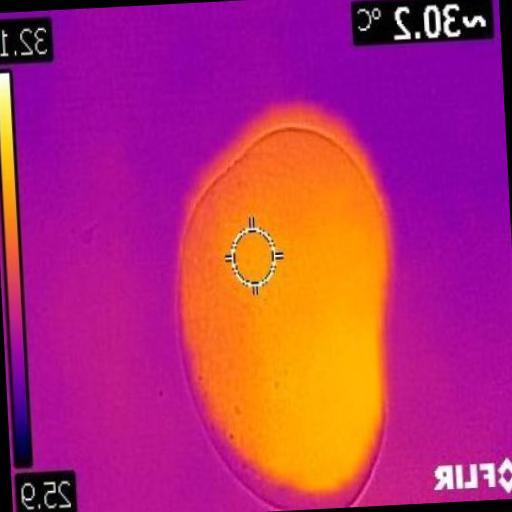alphanso: (179, 129, 389, 511)
